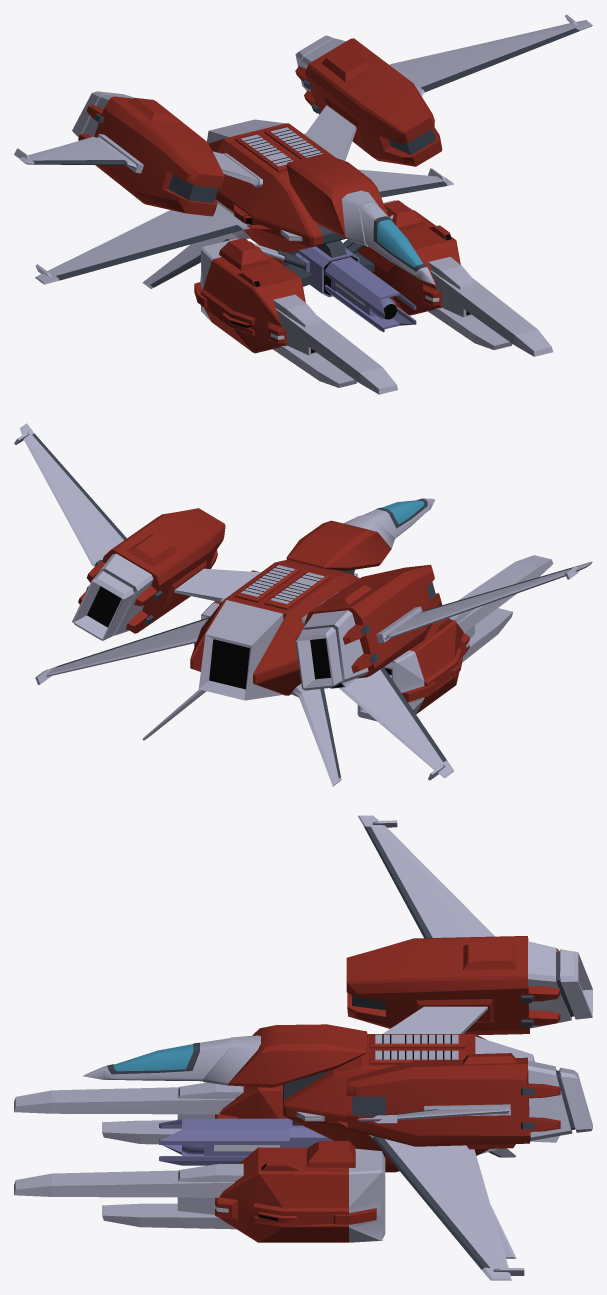
The picture shows the model from 3 angles, top to bottom: view 1: azimuth 30°, elevation 25°; view 2: azimuth 150°, elevation 25°; view 3: azimuth 270°, elevation 25°; orthographic projection. The views are drawn at different scales.
Parts seen in each view (by area): view 1: 3DSMeshMatrix; view 2: 3DSMeshMatrix; view 3: 3DSMeshMatrix.
Boxes of the visible parts, x1,y1,x2,y2 form: 3DSMeshMatrix: [14, 14, 592, 394]; 3DSMeshMatrix: [14, 423, 592, 786]; 3DSMeshMatrix: [14, 815, 592, 1280].
Bounding box in the file's own units: 14.49 × 5.36 × 11.67.
1 material, 1 textured.
